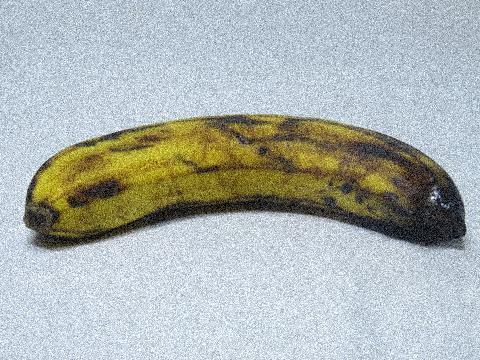overripe: (15, 89, 479, 303)
rotten: (369, 138, 476, 276)
